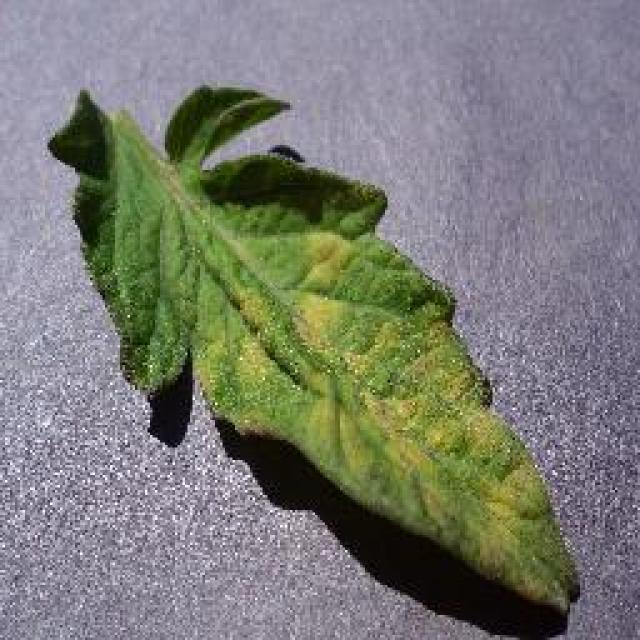leaf mold: (48, 85, 588, 621)
